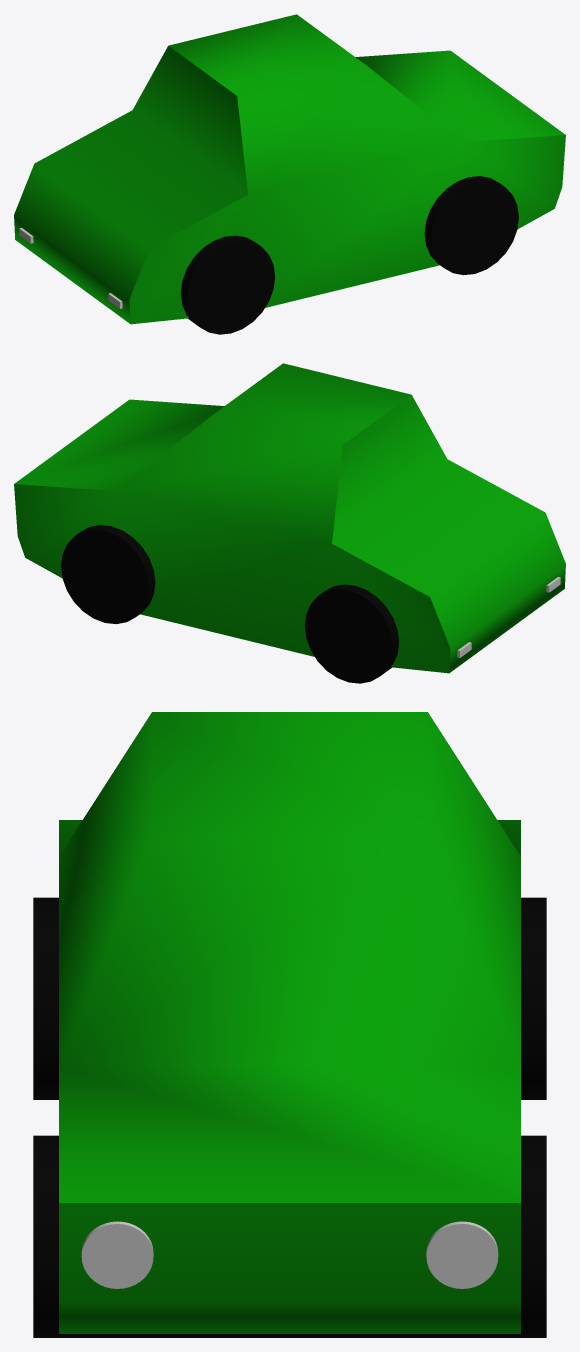
Rendered from car.dae.
The picture shows the model from 3 angles, top to bottom: view 1: azimuth 30°, elevation 25°; view 2: azimuth 150°, elevation 25°; view 3: azimuth 270°, elevation 25°; orthographic projection. The views are drawn at different scales.
Parts seen in each view (by area): view 1: Auto, Reifen, Reifen.1; view 2: Auto, Reifen, Reifen.1; view 3: Auto, Reifen.1, Reifen, Zylinder.
Boxes of the visible parts, <box> form: Auto: <box>14,14,565,324</box>; Reifen: <box>180,235,275,334</box>; Reifen.1: <box>424,176,518,275</box>; Auto: <box>14,363,565,673</box>; Reifen: <box>304,584,399,683</box>; Reifen.1: <box>61,525,155,624</box>; Auto: <box>59,712,520,1333</box>; Reifen.1: <box>33,1135,546,1337</box>; Reifen: <box>33,897,546,1099</box>; Zylinder: <box>81,1221,498,1288</box>.
Size of the model in its own units: 1.98 by 0.8893 by 1.
